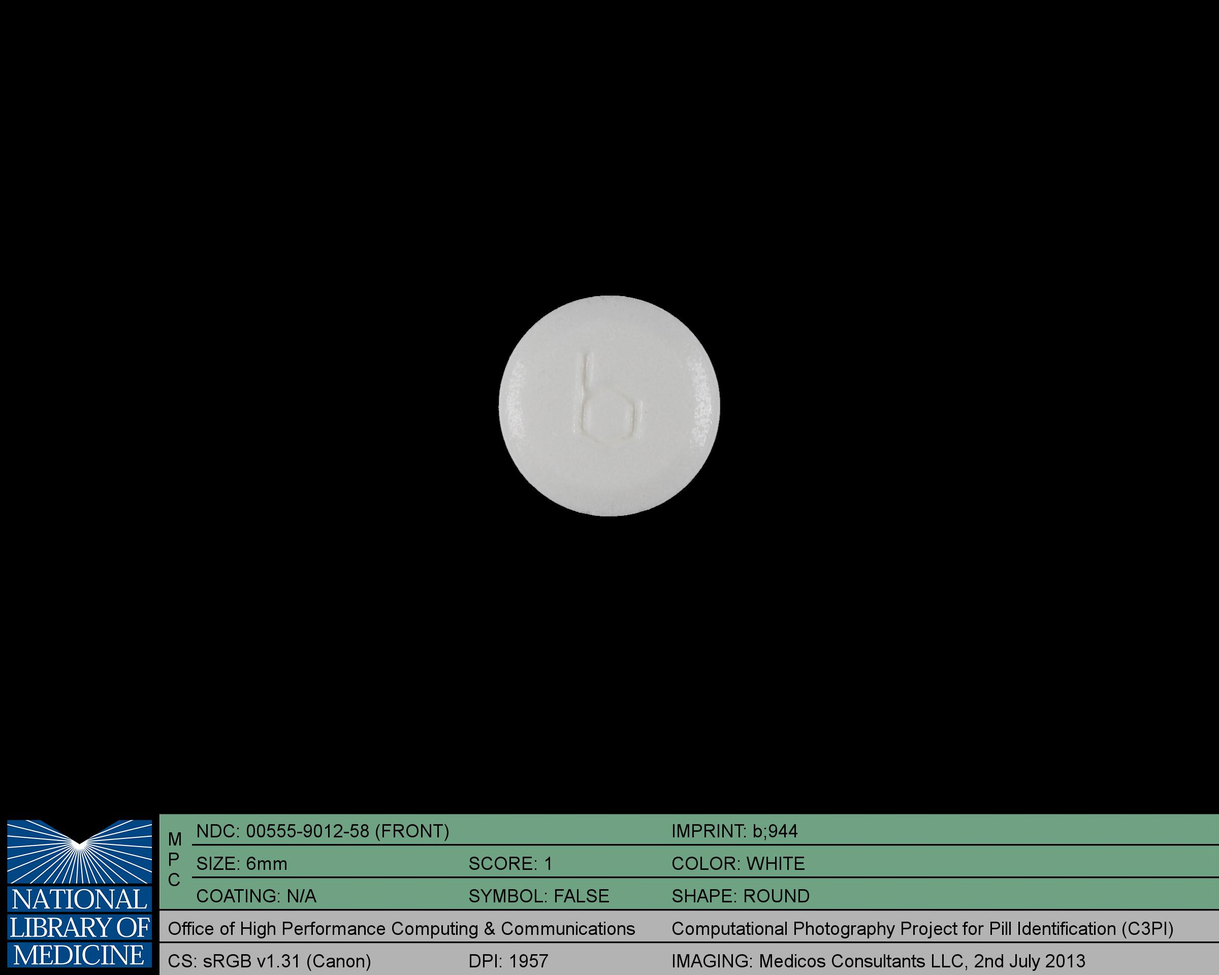Pill: (483, 279, 731, 530)
